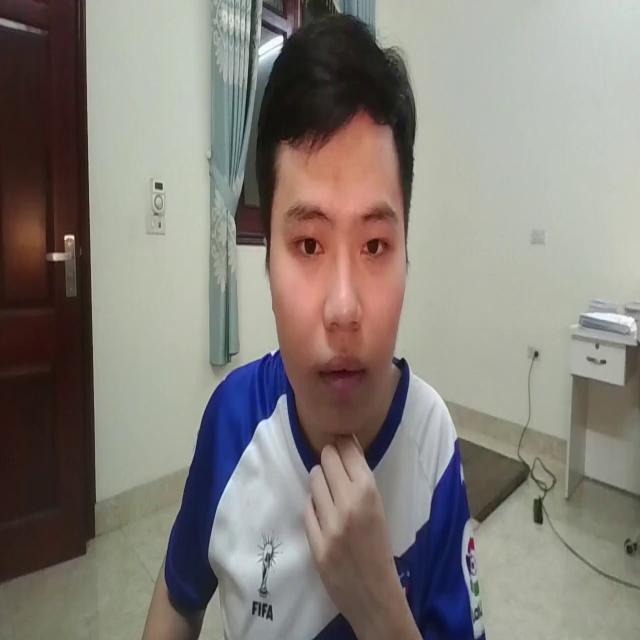student: (138, 9, 508, 640)
